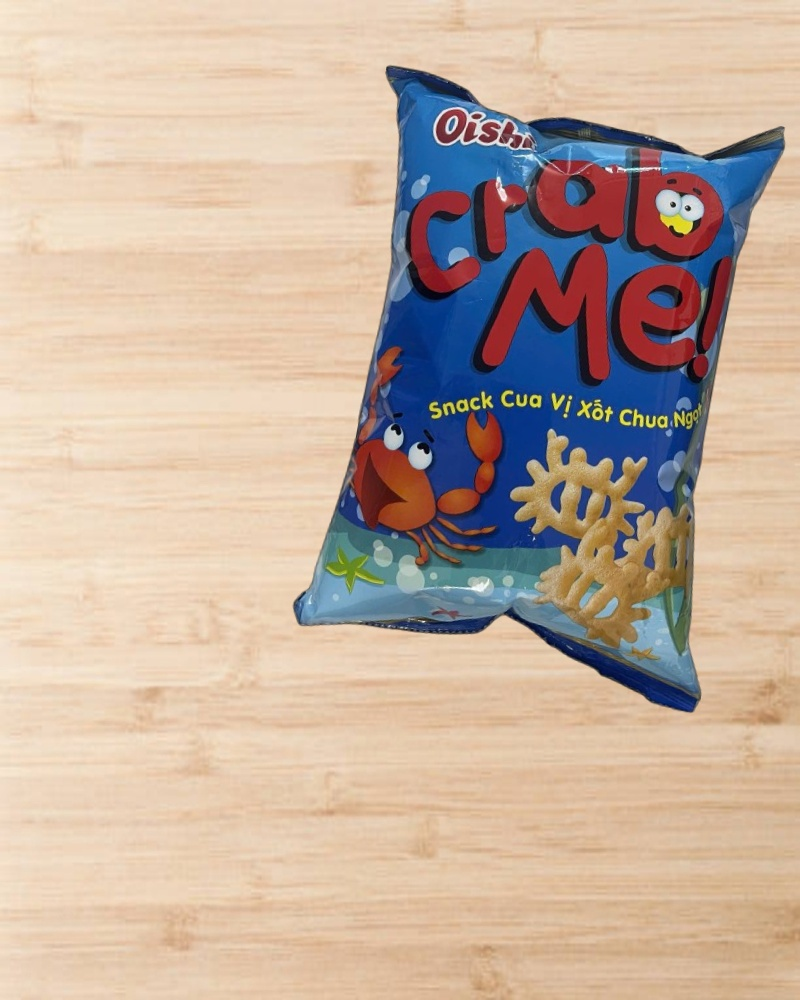Snack chay: (286, 58, 800, 716)
